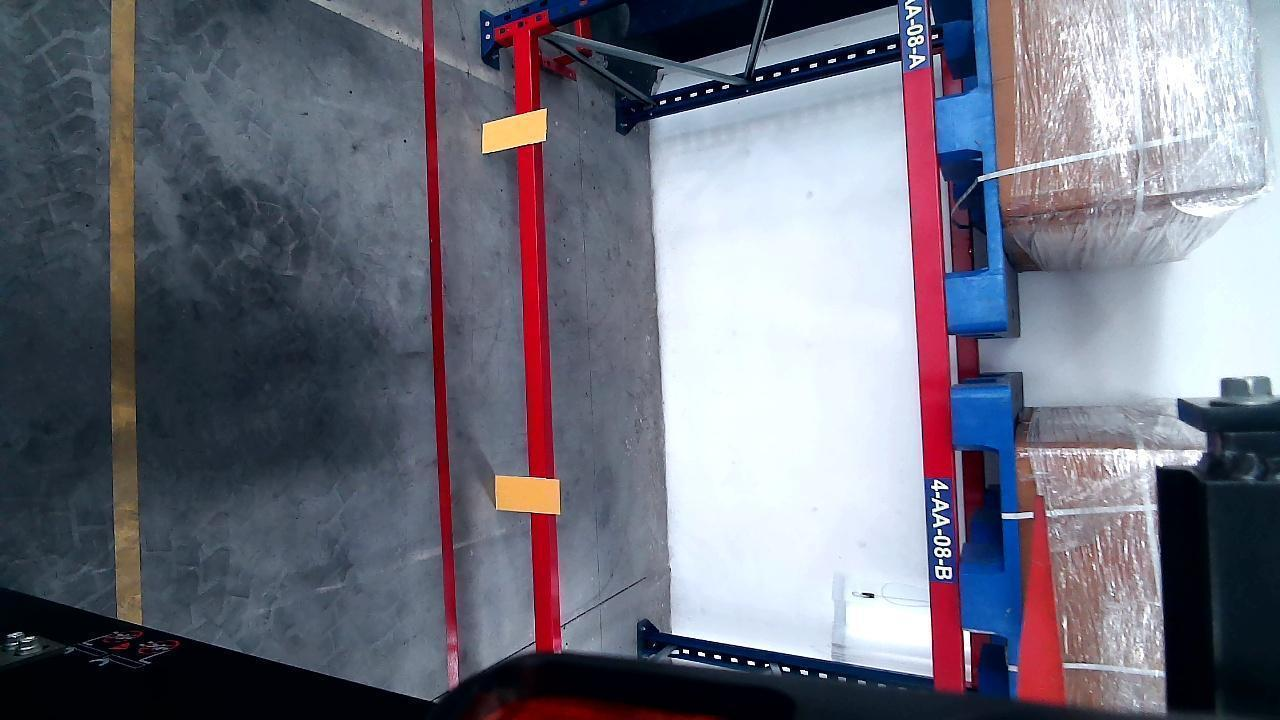red_line: (422, 3, 456, 676)
yellow_line: (107, 5, 141, 625)
